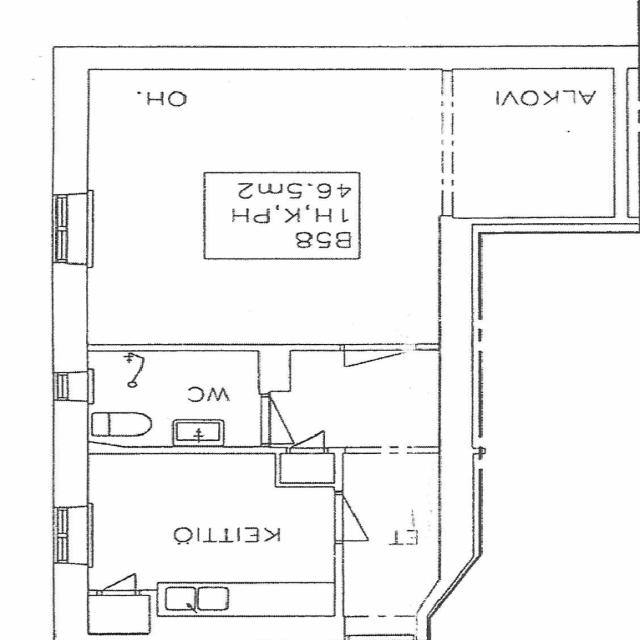door: (260, 396, 339, 444), (334, 494, 414, 541), (343, 344, 411, 396), (288, 421, 325, 454), (100, 564, 136, 596)
